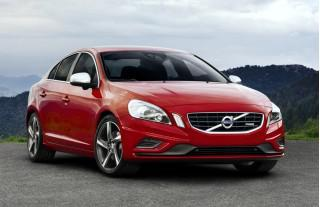volvo: (218, 111, 240, 134)
